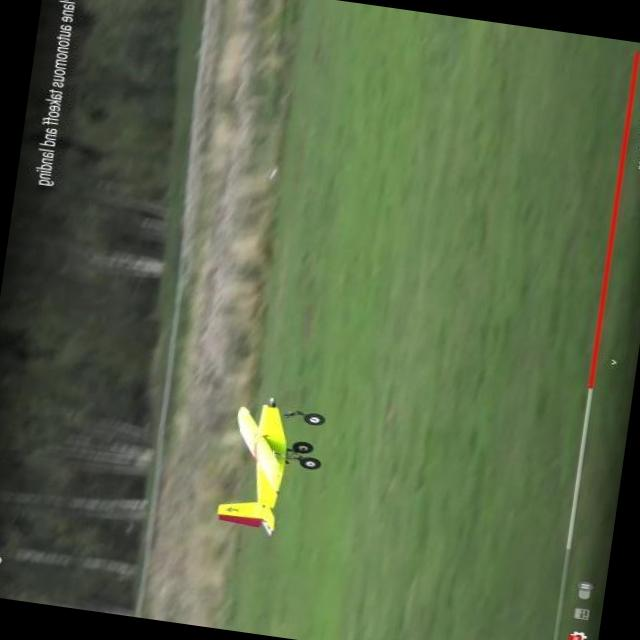UAV: (212, 397, 324, 533)
